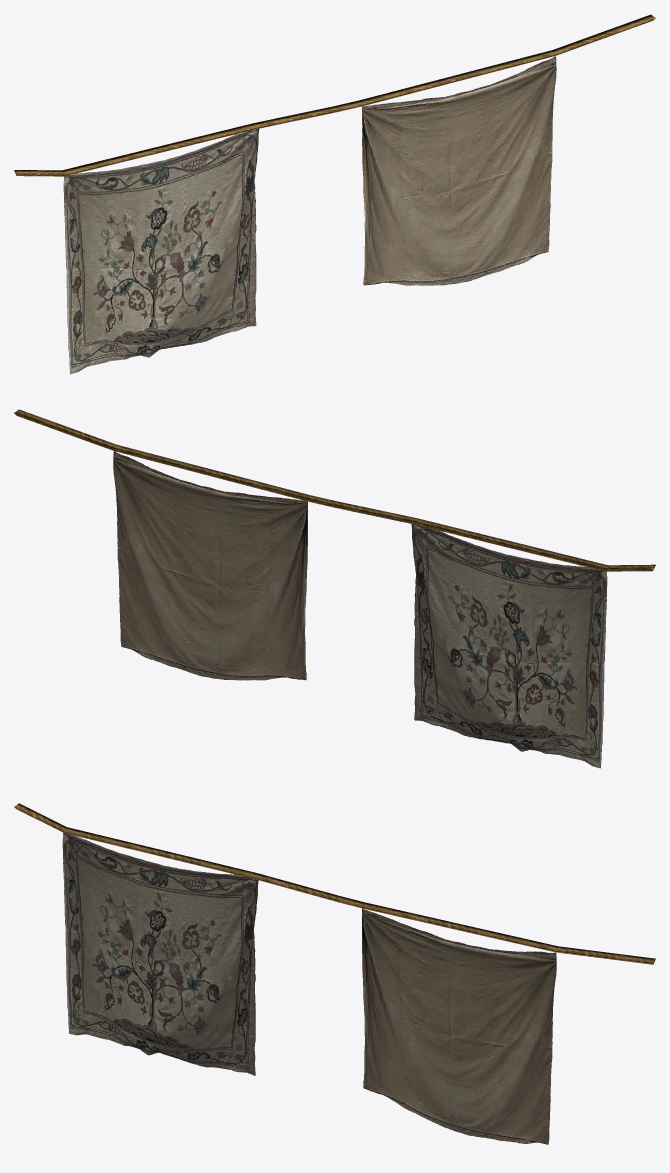
Rendered from GS_HOUSE_LAUNDRY_02_KWIATEK.glb.
The picture shows the model from 3 angles, top to bottom: view 1: azimuth 30°, elevation 25°; view 2: azimuth 150°, elevation 25°; view 3: azimuth 330°, elevation 25°; orthographic projection.
Parts seen in each view (by area): view 1: Mesh; view 2: Mesh; view 3: Mesh.
Boxes of the visible parts, x1,y1,x2,y2 form: Mesh: (14, 14, 655, 374); Mesh: (14, 409, 655, 768); Mesh: (14, 803, 655, 1144).
Bounding box in the file's own units: 2.71 × 0.9015 × 0.0372.
Materials: 3 (3 with a texture image).
